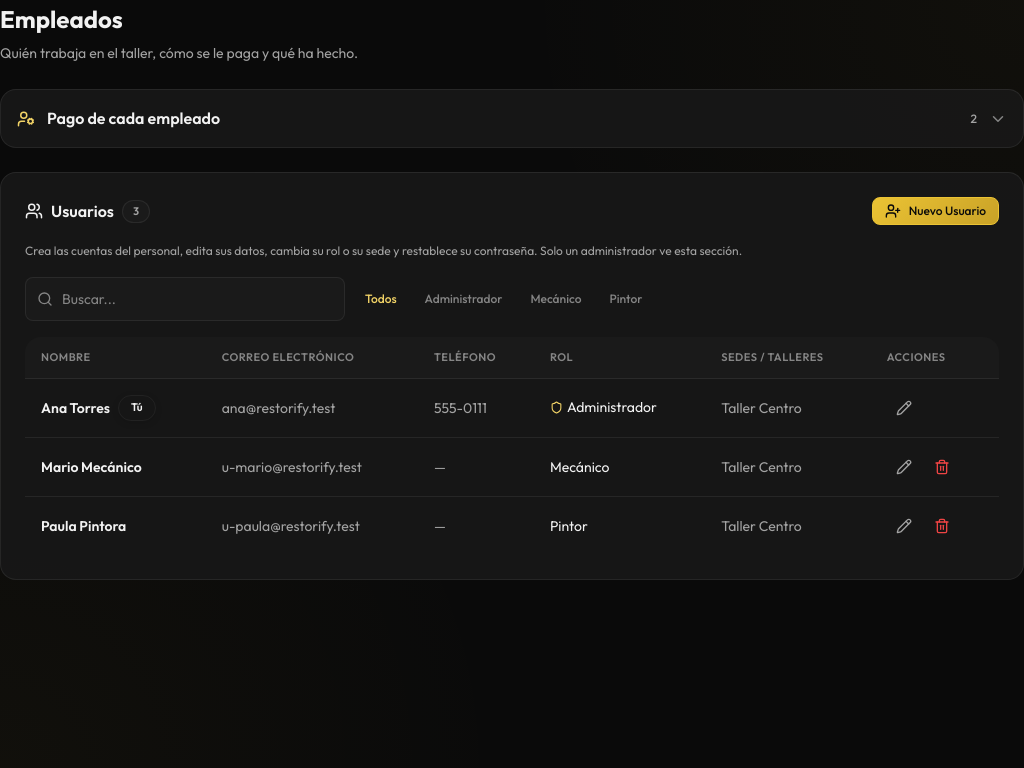
Empleados: vista móvil › la sección arranca cerrada, muestra nombres y permite abrir el pago y editar
The image size is (1024, 768).
// Al abrir la sección se ven los nombres
Click the button "Pago de cada empleado 2": point(134, 118) x1=1 y1=90 x2=1023 y2=147
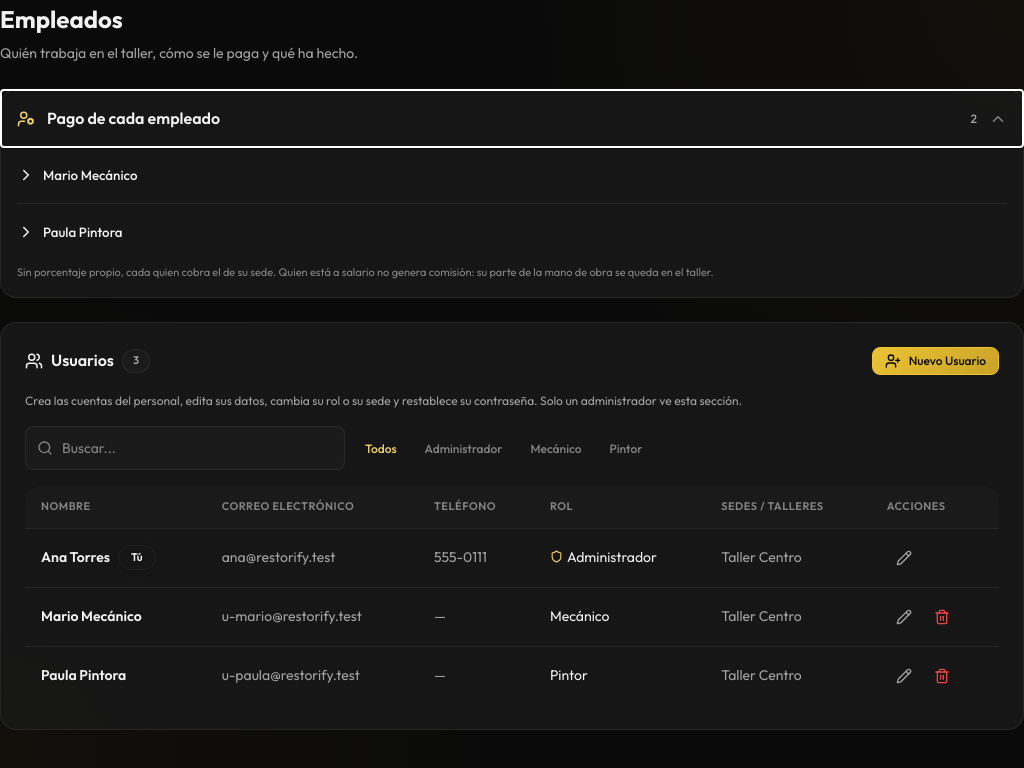
// Al tocar el nombre, aparece su información (rol, sede, y esquema de pago)
Click the button "Mario Mecánico": point(90, 175) x1=17 y1=151 x2=1007 y2=199
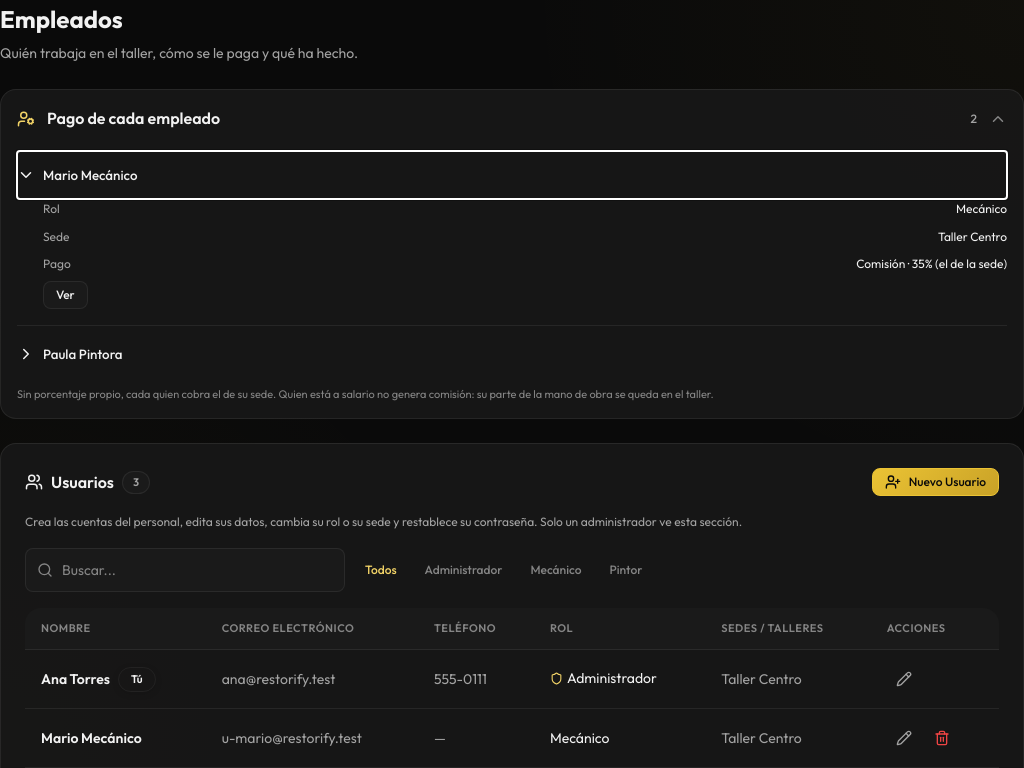
Expected: the button "Mario Mecánico" is expanded, x1=17 y1=151 x2=1007 y2=199
Expected: the text "Comisión · 35% (el de la sede)" is shown, x1=856 y1=254 x2=1007 y2=273
// Tocar el botón "Ver" ("Editar pago" o "Ver" en código) abre el modal
Click the button "Ver": point(65, 295) x1=43 y1=281 x2=88 y2=309
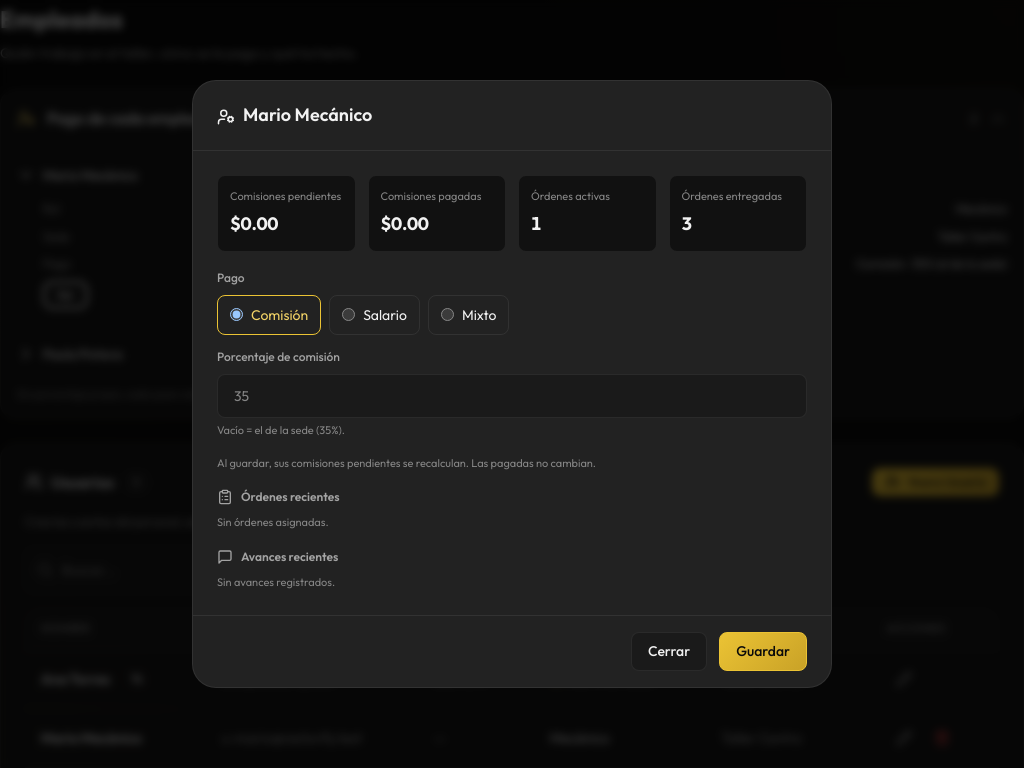
Expected: the dialog "Mario Mecánico" is shown, x1=192 y1=80 x2=832 y2=688
